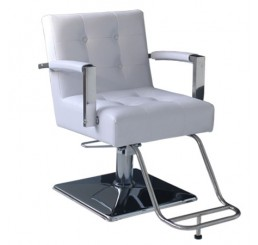chairs: (37, 10, 242, 239)
